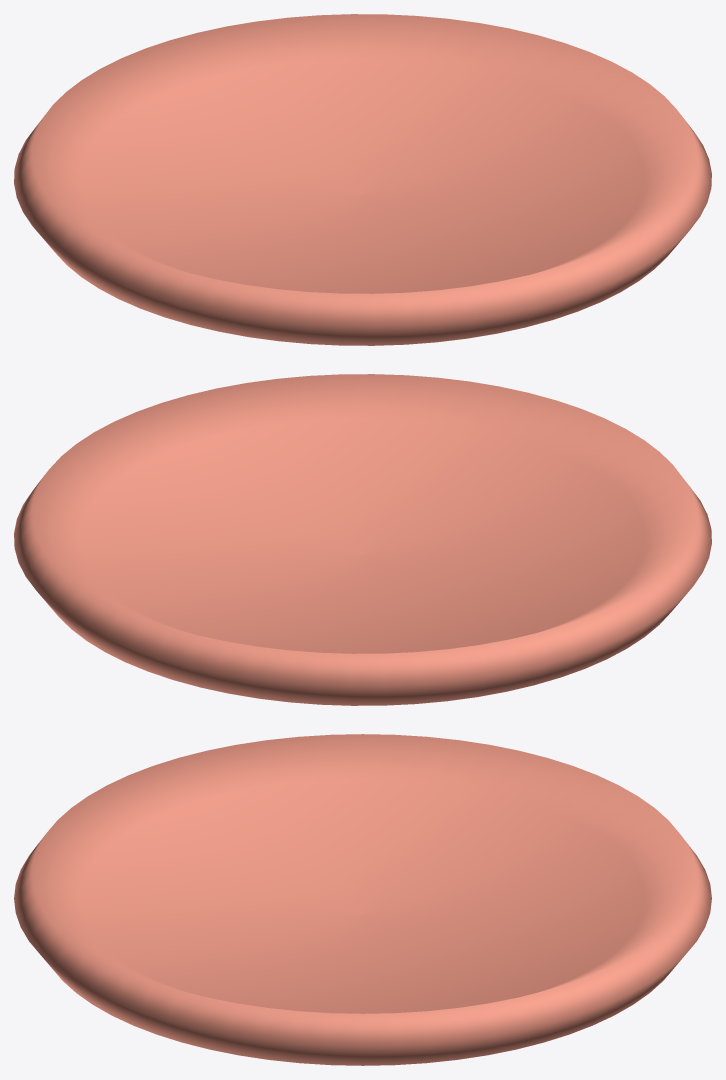
Rendered from SinkPlate.glb.
The picture shows the model from 3 angles, top to bottom: view 1: azimuth 30°, elevation 25°; view 2: azimuth 150°, elevation 25°; view 3: azimuth 270°, elevation 25°; orthographic projection.
Visible parts, largest first — view 1: SinkPlate_Body; view 2: SinkPlate_Body; view 3: SinkPlate_Body.
Boxes of the visible parts, left/top/right/bottom form: SinkPlate_Body: left=14, top=14, right=711, bottom=345; SinkPlate_Body: left=14, top=374, right=711, bottom=705; SinkPlate_Body: left=14, top=734, right=711, bottom=1065.
Size of the model in its own units: 2.32 by 0.28 by 2.32.
